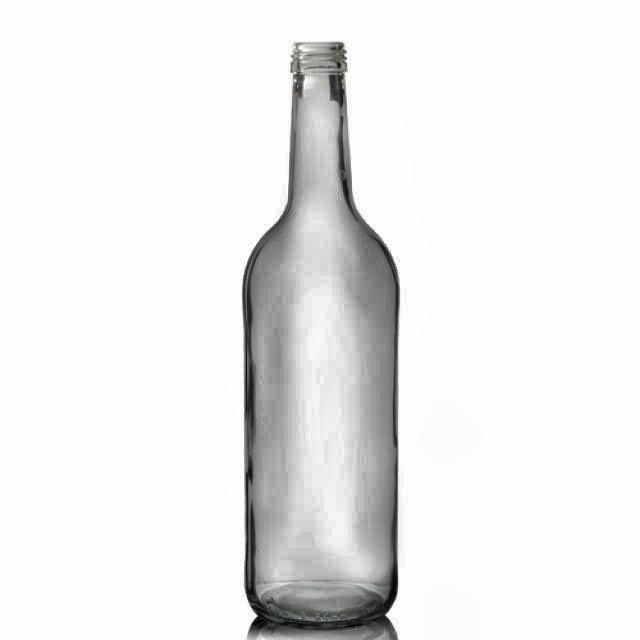glass: (241, 40, 399, 640)
